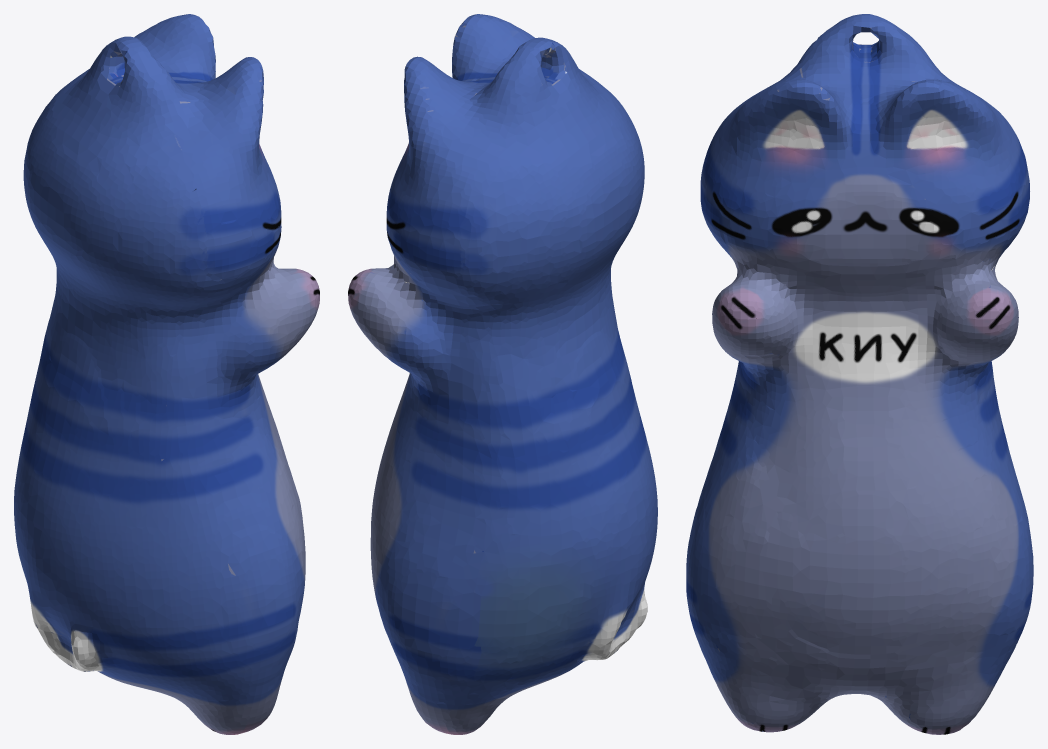
The model's file is Kotichka.glb.
The picture shows the model from 3 angles, left to right: view 1: azimuth 30°, elevation 25°; view 2: azimuth 150°, elevation 25°; view 3: azimuth 270°, elevation 25°; orthographic projection. The views are drawn at different scales.
Visible parts, largest first — view 1: Cube.001; view 2: Cube.001; view 3: Cube.001.
Boxes of the visible parts, x1,y1,x2,y2 form: Cube.001: [14, 14, 319, 734]; Cube.001: [348, 14, 657, 734]; Cube.001: [686, 14, 1033, 734].
Size of the model in its own units: 0.0211 by 0.0566 by 0.0258.
1 material, 1 textured.
